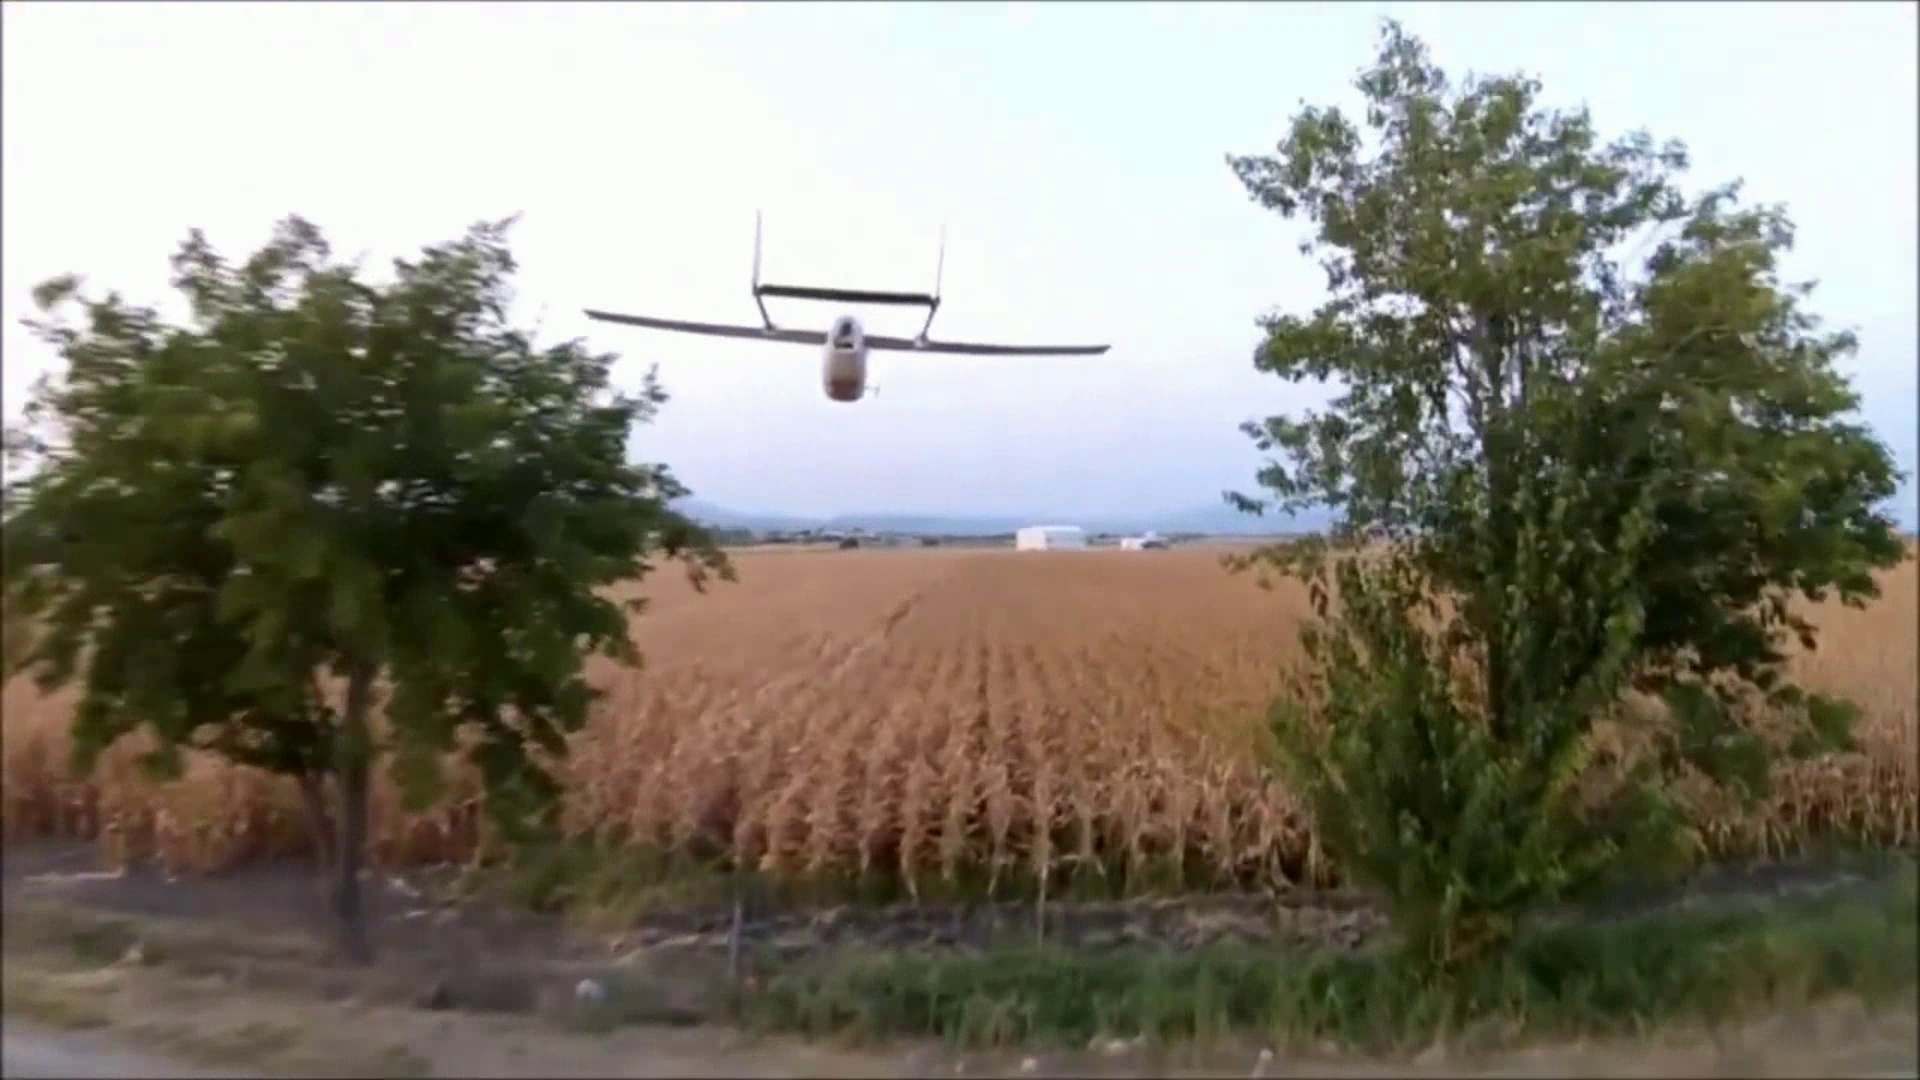airplane: (584, 202, 1114, 404)
